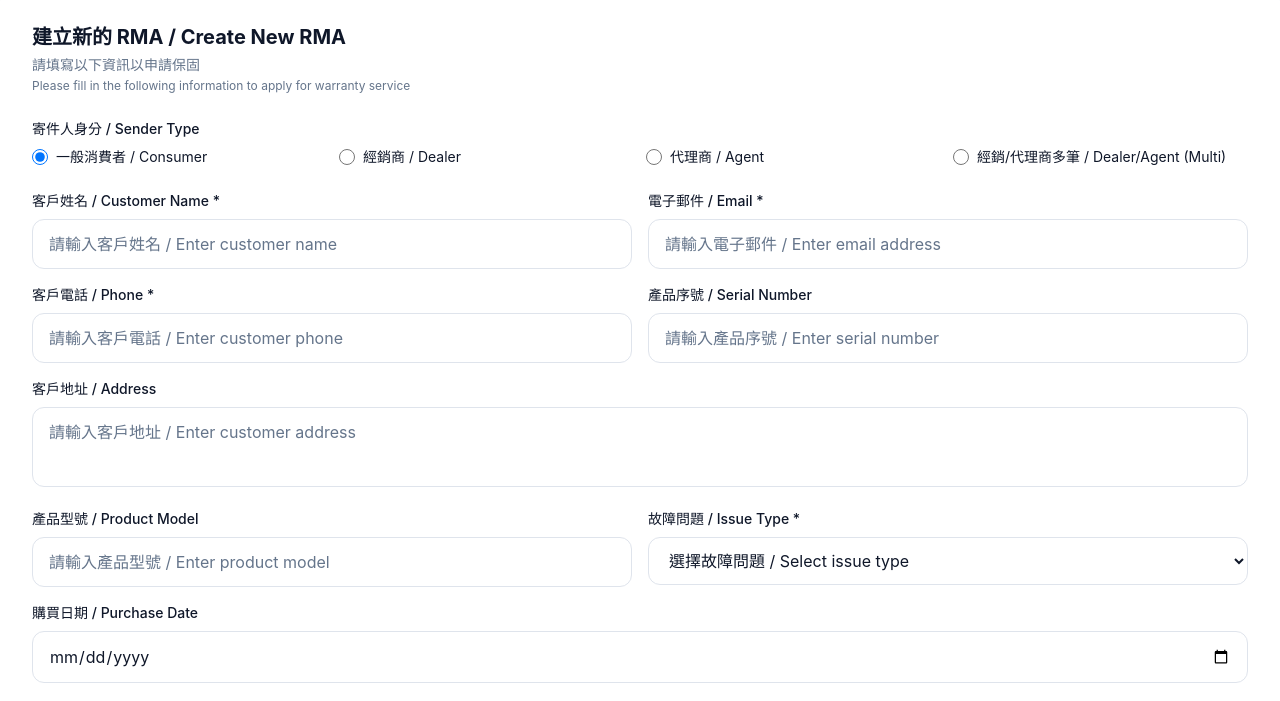
RmaForm — 寄件人身分切換 › 切換回「一般消費者」後問題描述欄位應重新出現
Click the radio button labelled "經銷/代理商多筆 / Dealer/Agent (Multi)" at (961, 157), box [953,149,969,165]
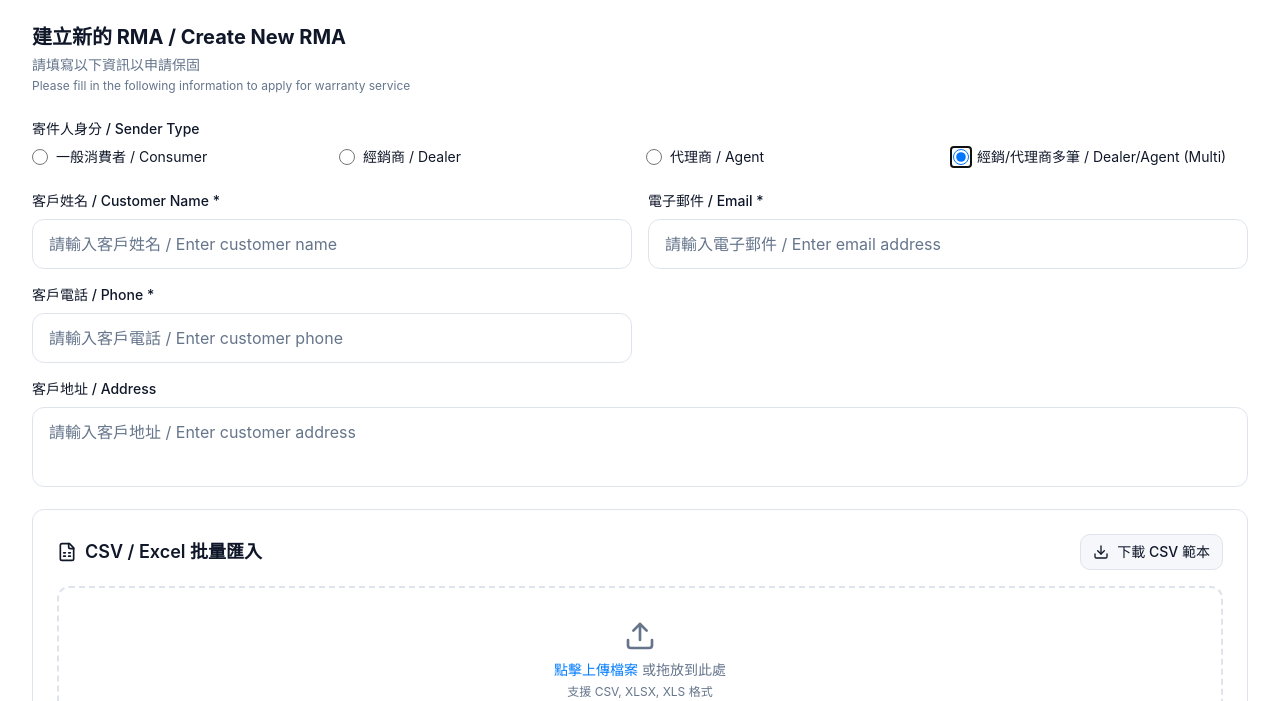
Click the radio button labelled "一般消費者 / Consumer" at (40, 157), box [32,149,48,165]
(page scrolled)
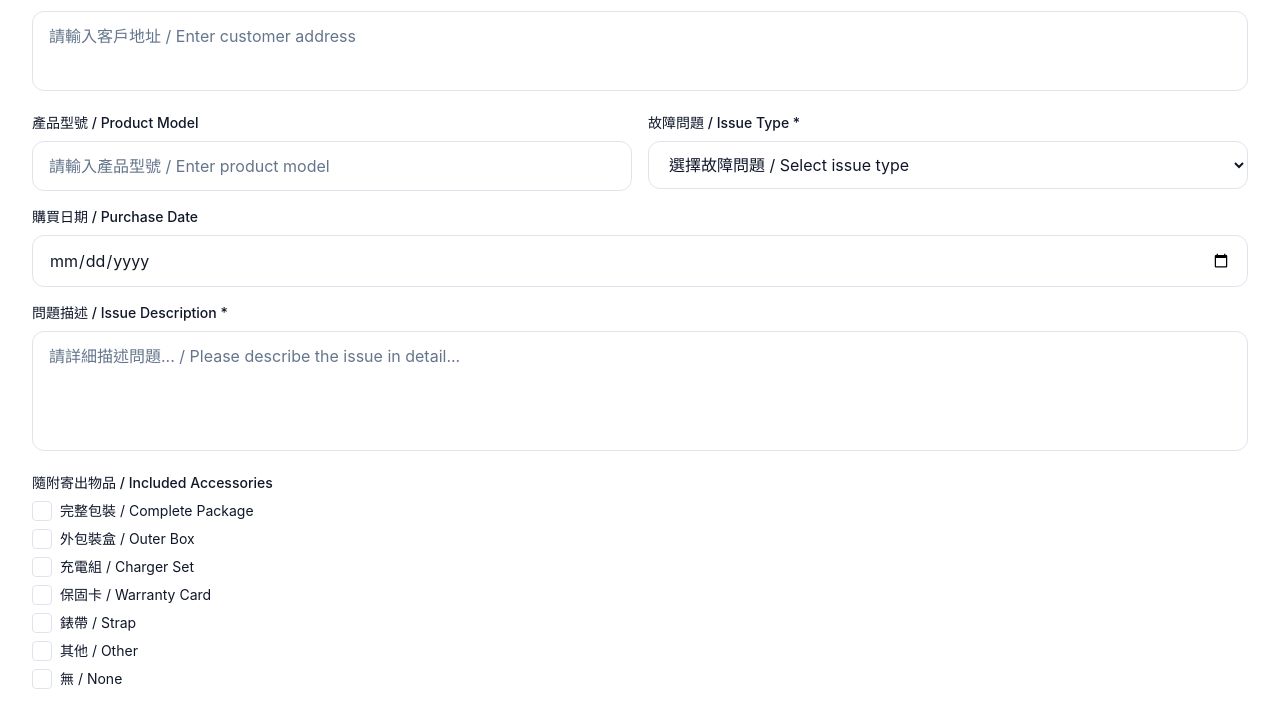
Check: the text box with placeholder "請詳細描述問題... / Please describe the issue in detail..." is shown, box [32,331,1248,451]
